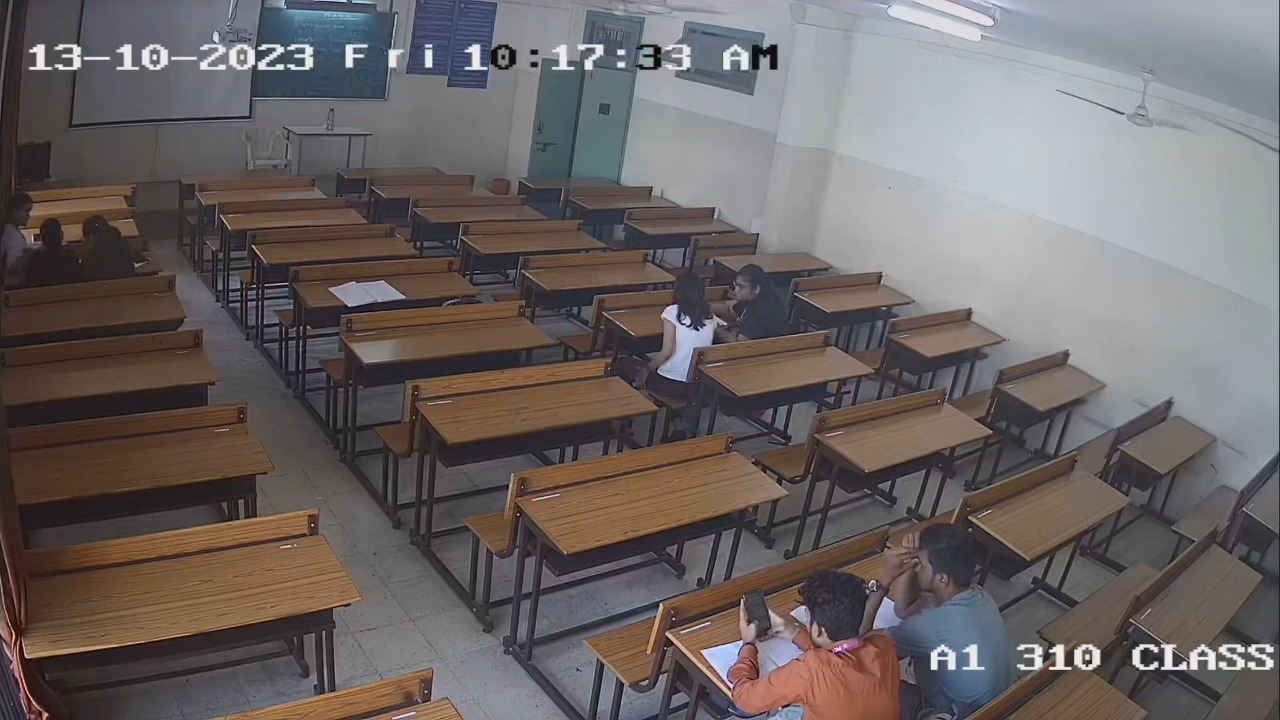cell-phones: (738, 589, 776, 636)
person: (717, 572, 903, 720)
